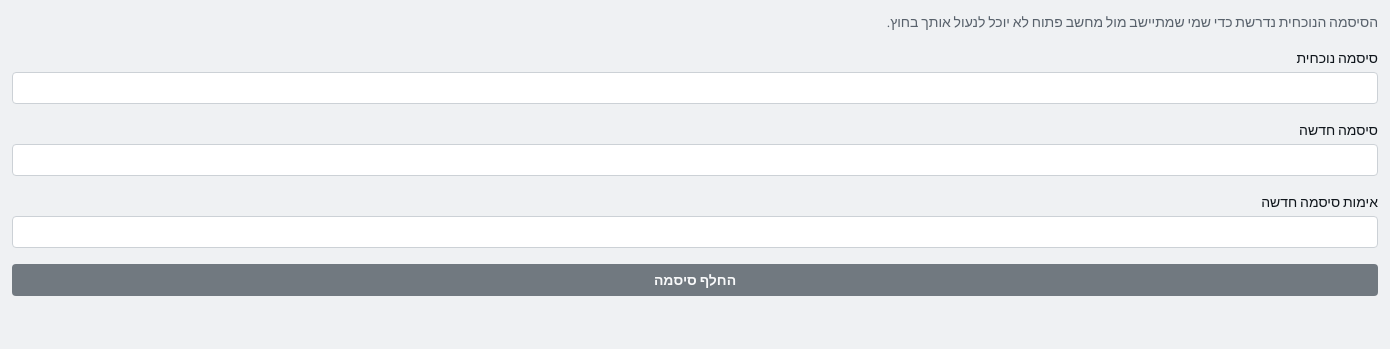
it: טופס החלפת סיסמה › כשל מהשרת מוצג כלשונו, והשדות נשארים מלאים כדי לתקן
Type "shagui-123" into the password field labelled "סיסמה נוכחית" at (695, 88), box [12,72,1378,104]
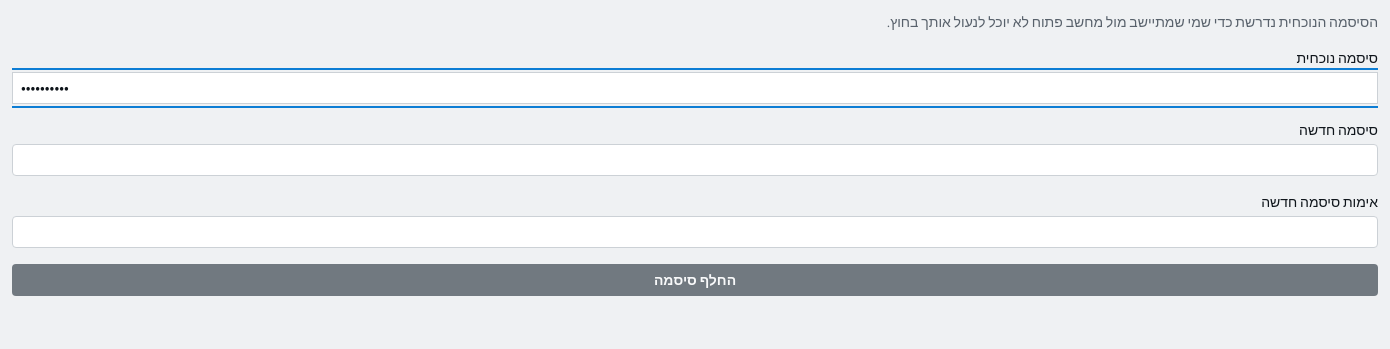
Type "chadash-456" into the password field labelled "סיסמה חדשה" at (695, 160), box [12,144,1378,176]
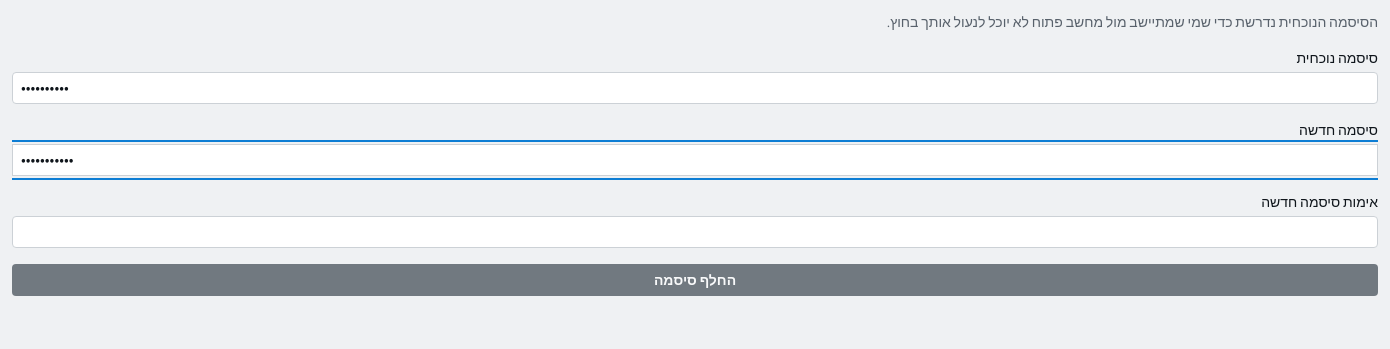
Type "chadash-456" into the password field labelled "אימות סיסמה חדשה" at (695, 232), box [12,216,1378,248]
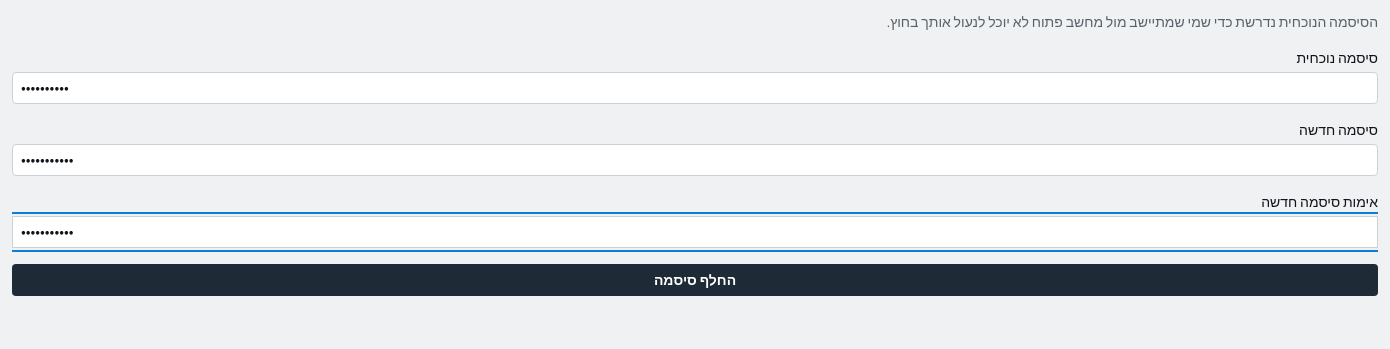
Click the button "החלף סיסמה" at (695, 280), box [12,264,1378,296]
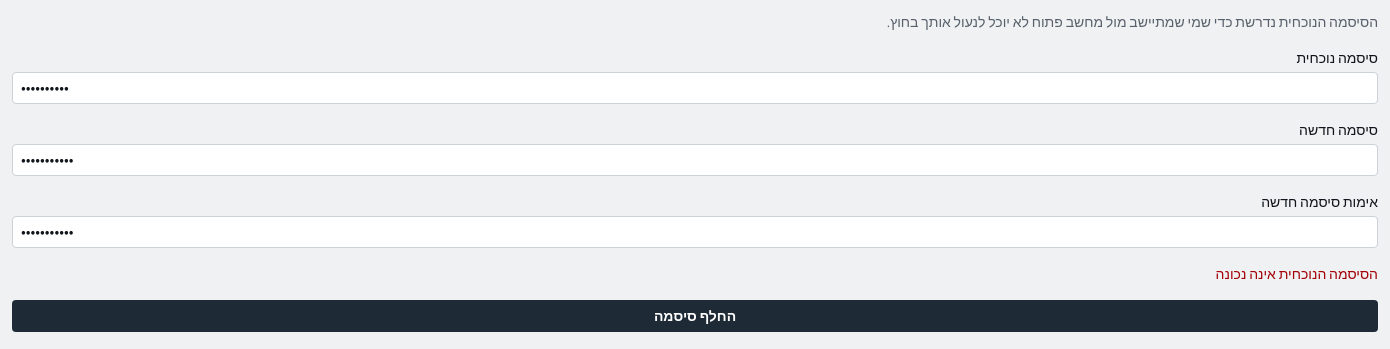
Result: the text "הסיסמה הנוכחית אינה נכונה" is shown at [1216,265,1378,283]
